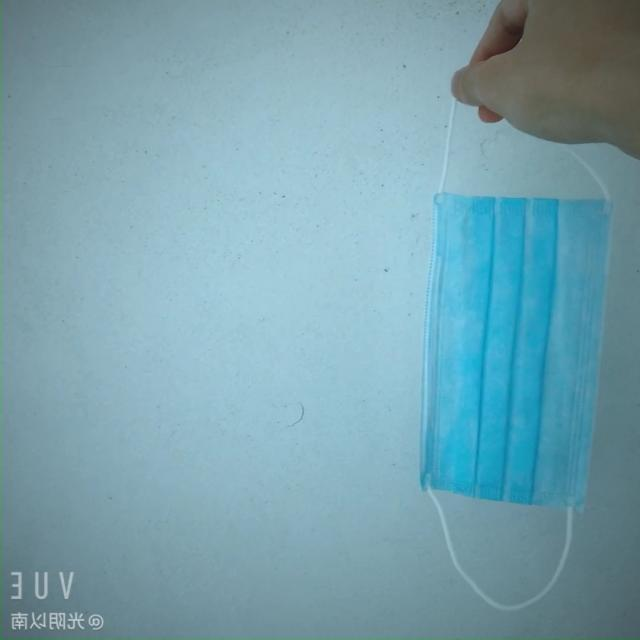face mask: (412, 189, 612, 544)
